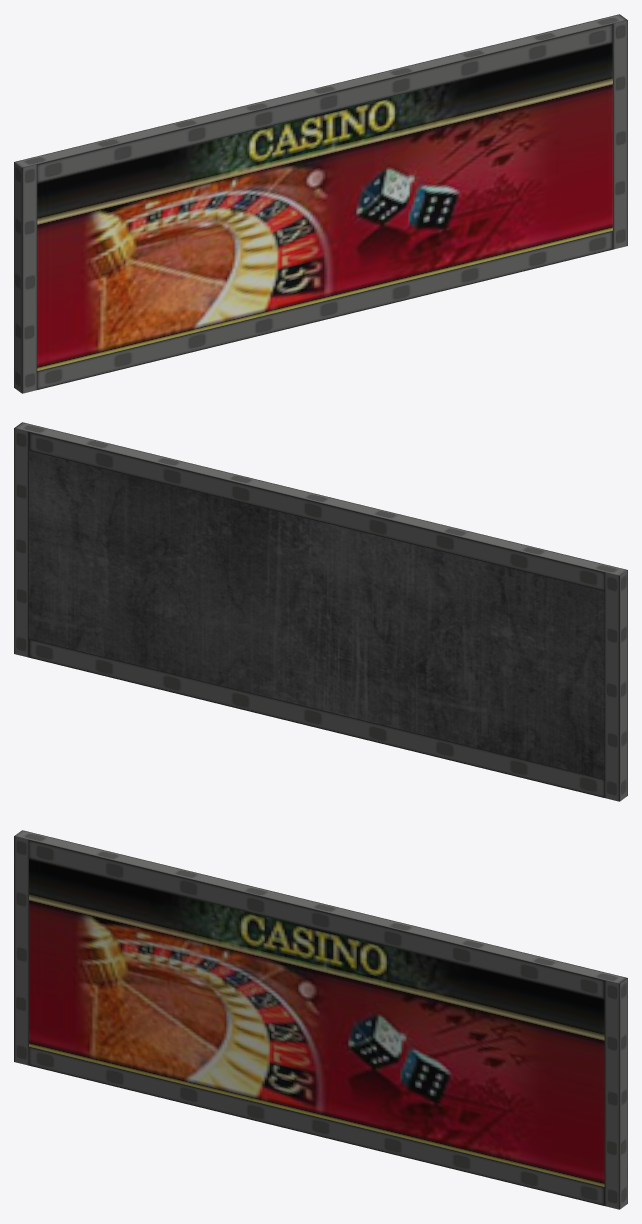
The model's file is sign board7.FBX.
3 renders of one model, top to bottom at view 1: azimuth 30°, elevation 25°; view 2: azimuth 150°, elevation 25°; view 3: azimuth 330°, elevation 25°, orthographic.
Parts seen in each view (by area): view 1: sign board7; view 2: sign board7; view 3: sign board7.
Boxes of the visible parts, bbox=[...] form: sign board7: bbox=[14, 14, 627, 393]; sign board7: bbox=[14, 422, 627, 801]; sign board7: bbox=[14, 830, 627, 1209].
Bounding box in the file's own units: 13.8 × 4.91 × 0.3264.
